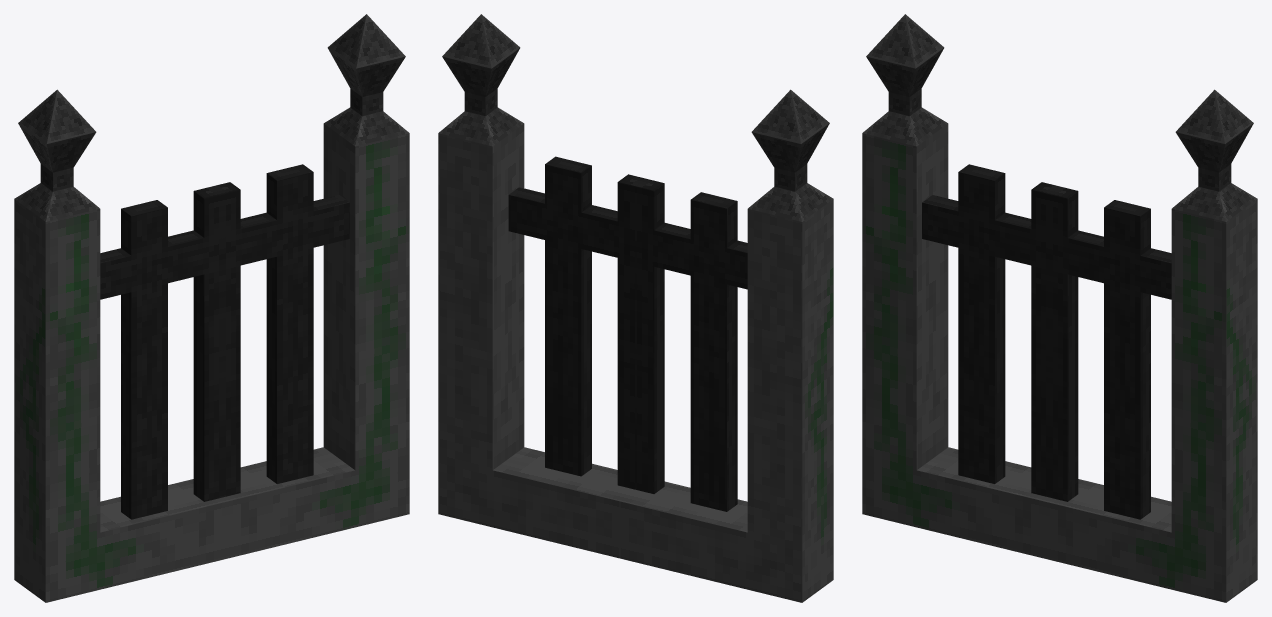
The model's file is Lattice_graveyard.fbx.
The picture shows the model from 3 angles, left to right: view 1: azimuth 30°, elevation 25°; view 2: azimuth 150°, elevation 25°; view 3: azimuth 330°, elevation 25°; orthographic projection.
Visible parts, largest first — view 1: Wall, Lattice; view 2: Wall, Lattice; view 3: Wall, Lattice.
Boxes of the visible parts, <box> form: Wall: <box>14,14,409,602</box>; Lattice: <box>100,164,349,519</box>; Wall: <box>438,14,833,602</box>; Lattice: <box>508,156,747,511</box>; Wall: <box>862,14,1257,602</box>; Lattice: <box>922,164,1171,519</box>.
Size of the model in its own units: 200 by 260 by 30.08.
2 materials, 2 textured.
